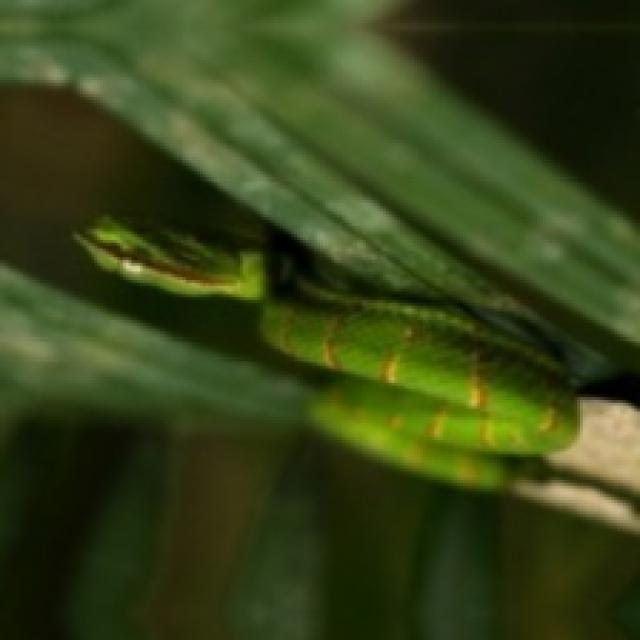north ph temple pitviper: (74, 217, 574, 486)
